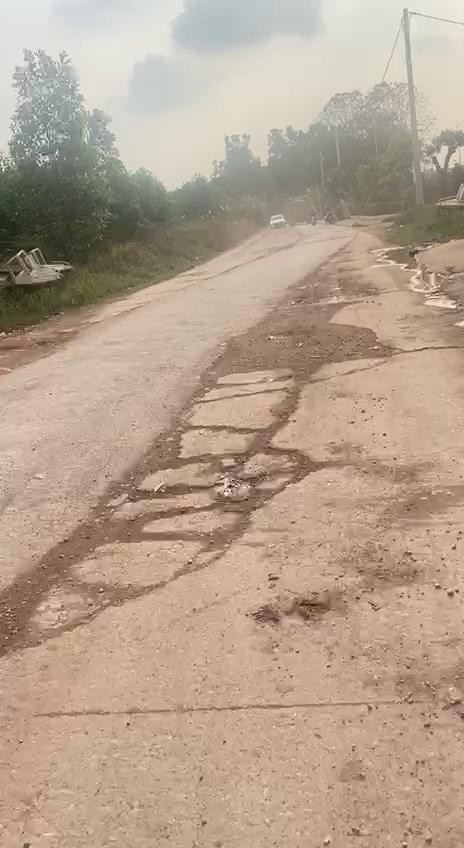pothole: (88, 424, 312, 561)
